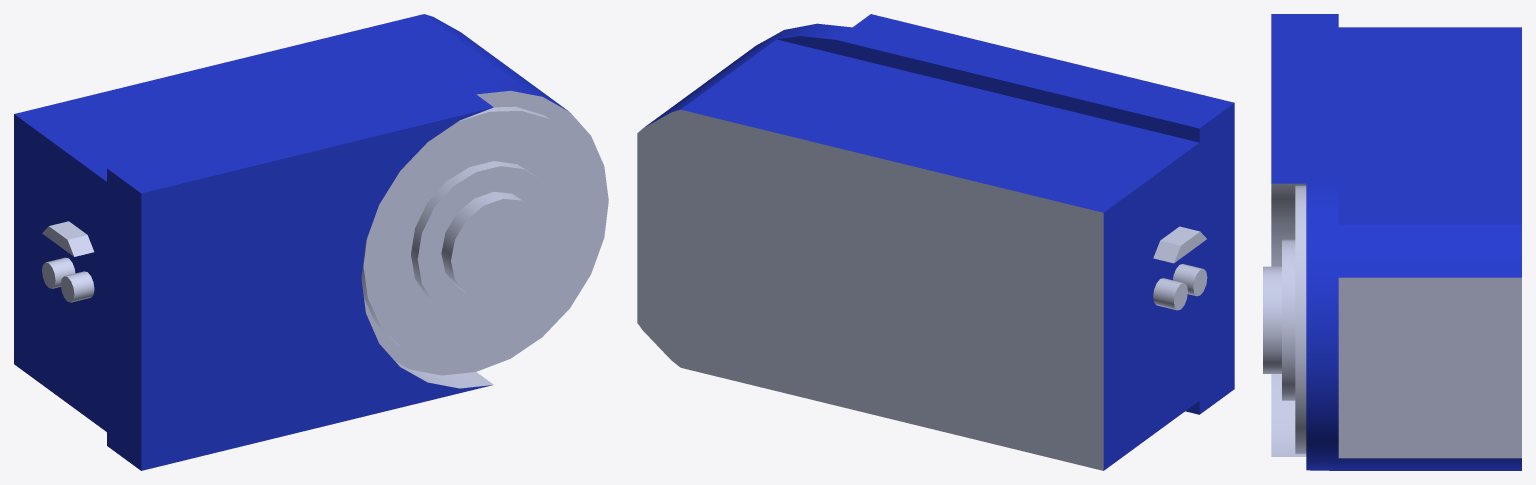
3 renders of one model, left to right at view 1: azimuth 30°, elevation 25°; view 2: azimuth 150°, elevation 25°; view 3: azimuth 270°, elevation 25°, orthographic. The views are drawn at different scales.
Visible parts, largest first — view 1: mesh 2 base, mesh 1 base; view 2: mesh 1 base, mesh 2 base; view 3: mesh 2 base, mesh 1 base.
Part boxes in pixels (bbox=[...]): mesh 2 base: bbox=[14, 14, 567, 470]; mesh 1 base: bbox=[42, 90, 608, 388]; mesh 1 base: bbox=[637, 109, 1207, 470]; mesh 2 base: bbox=[644, 14, 1234, 470]; mesh 2 base: bbox=[1271, 14, 1521, 470]; mesh 1 base: bbox=[1263, 183, 1521, 458].
Bounding box in the file's own units: 0.2135 × 0.112 × 0.0961.
